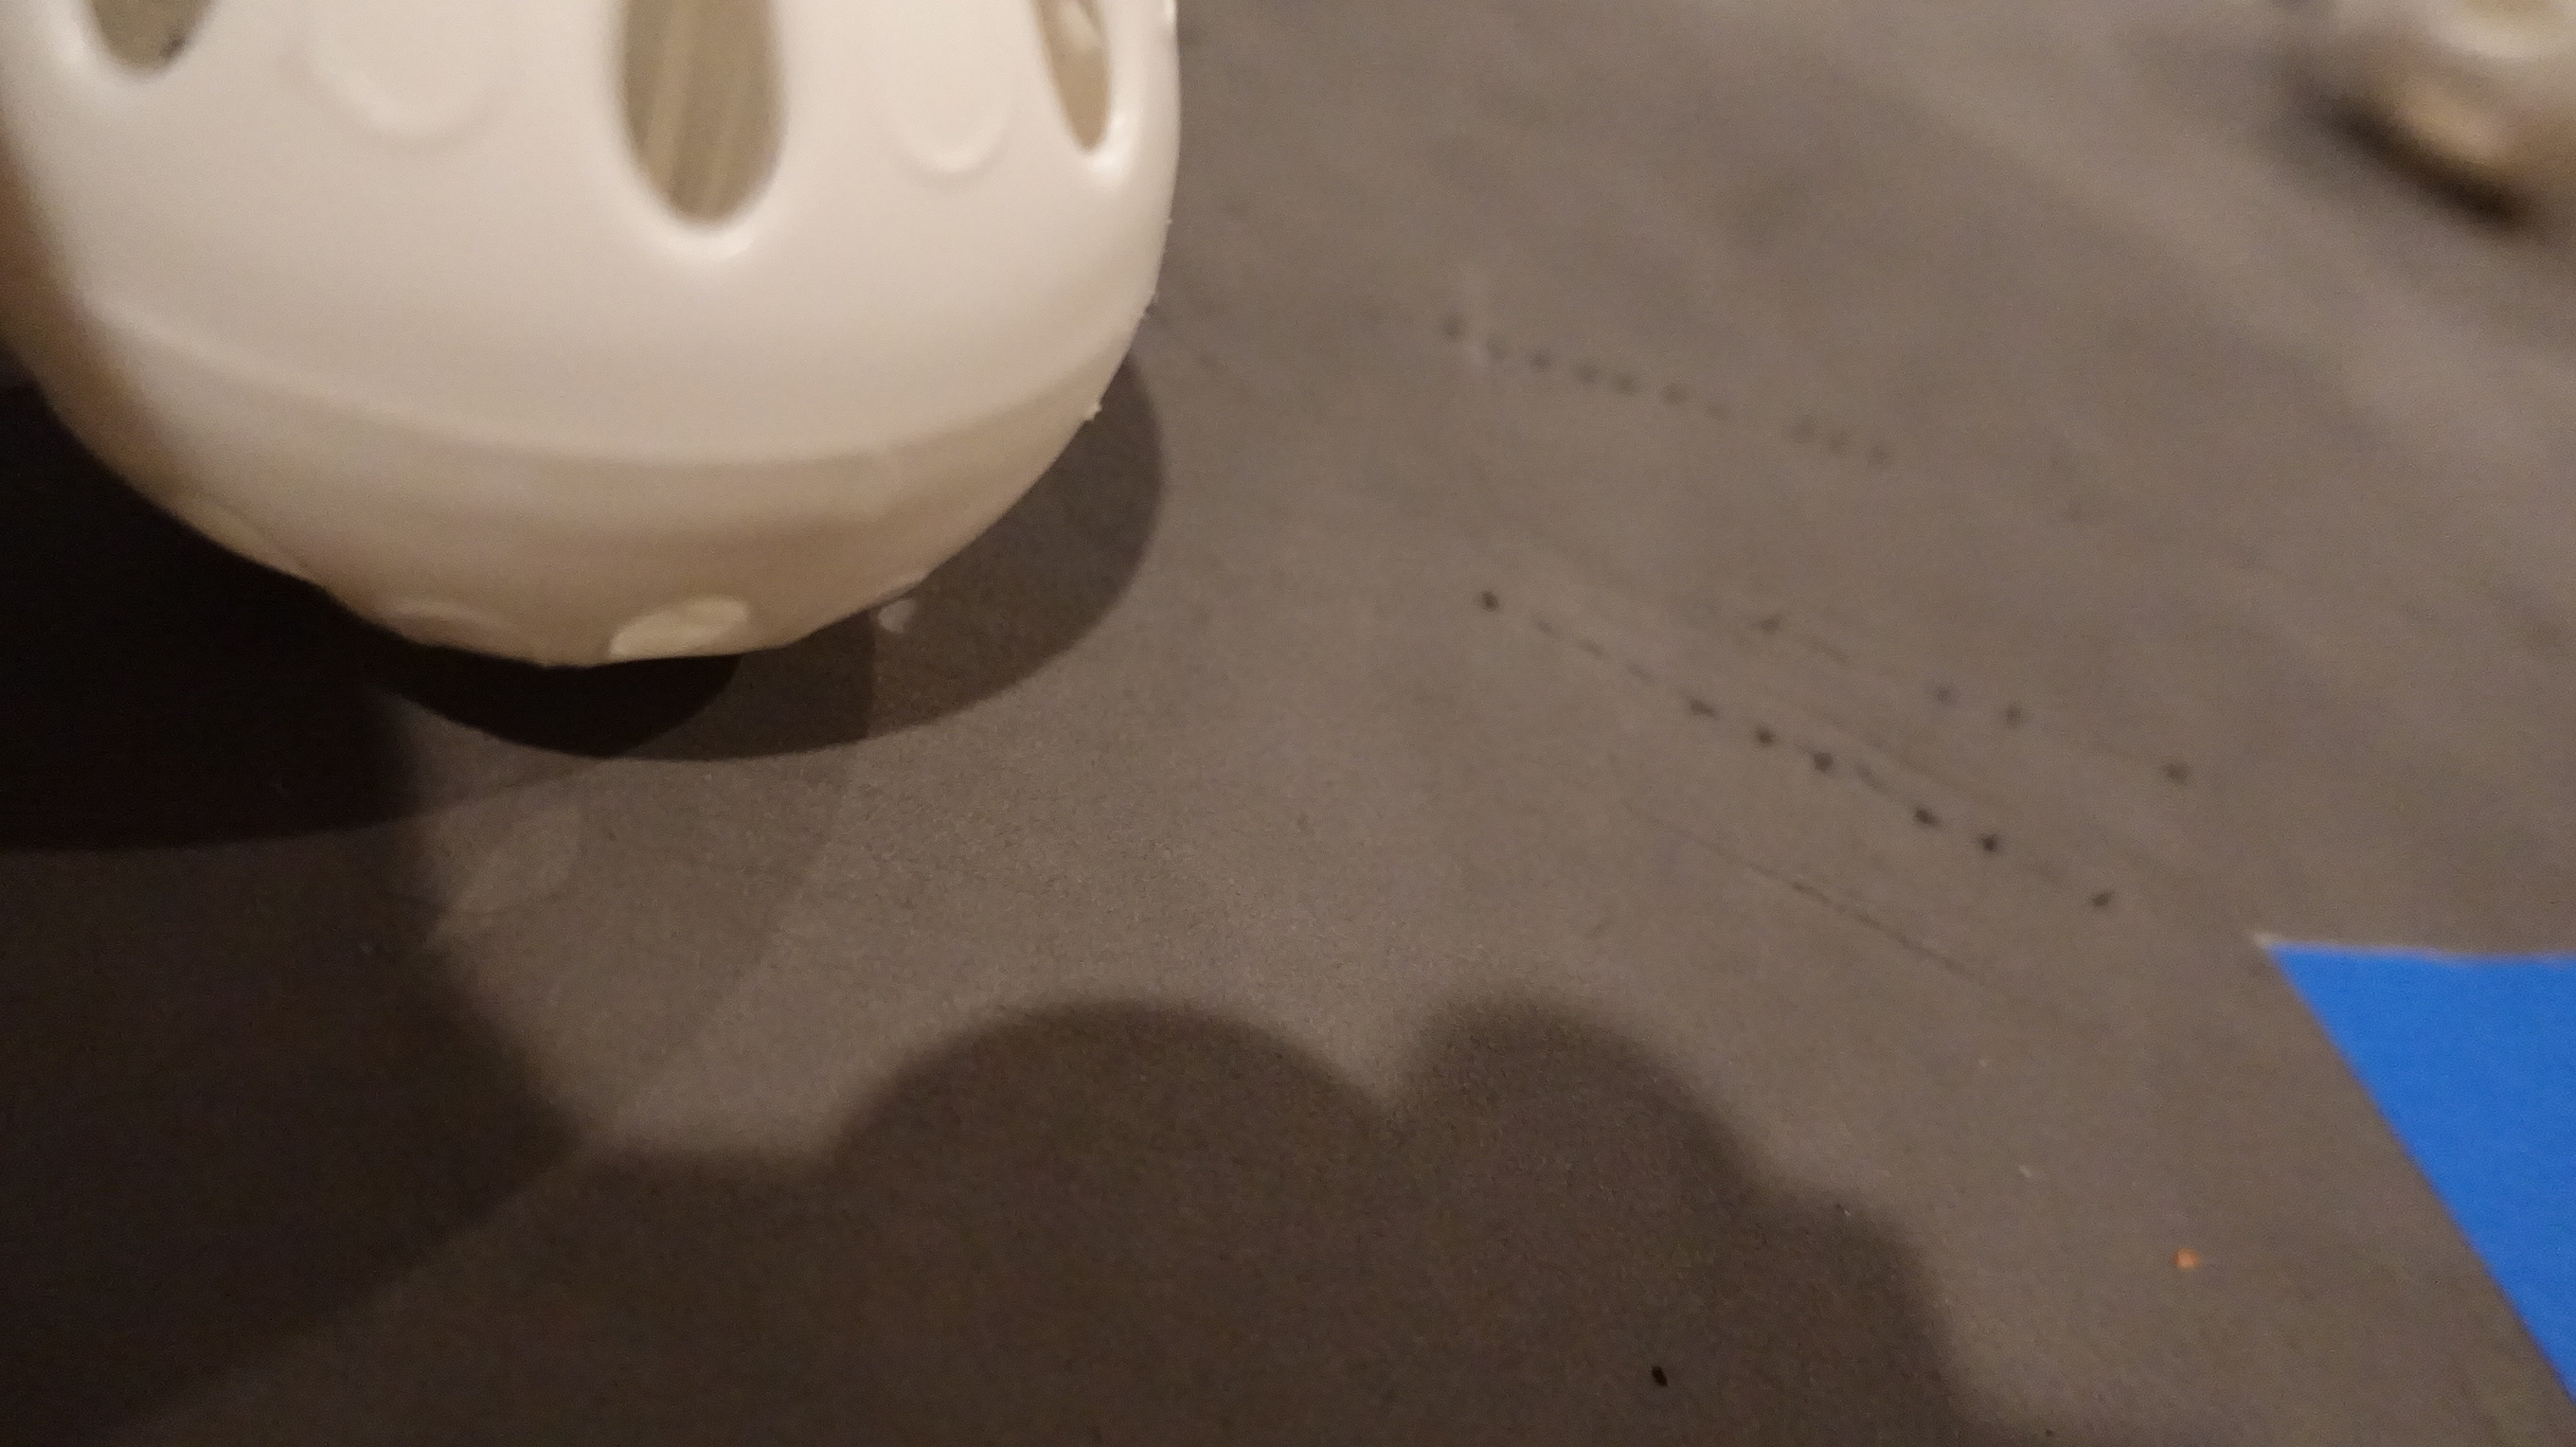silver: (2, 2, 1178, 701)
